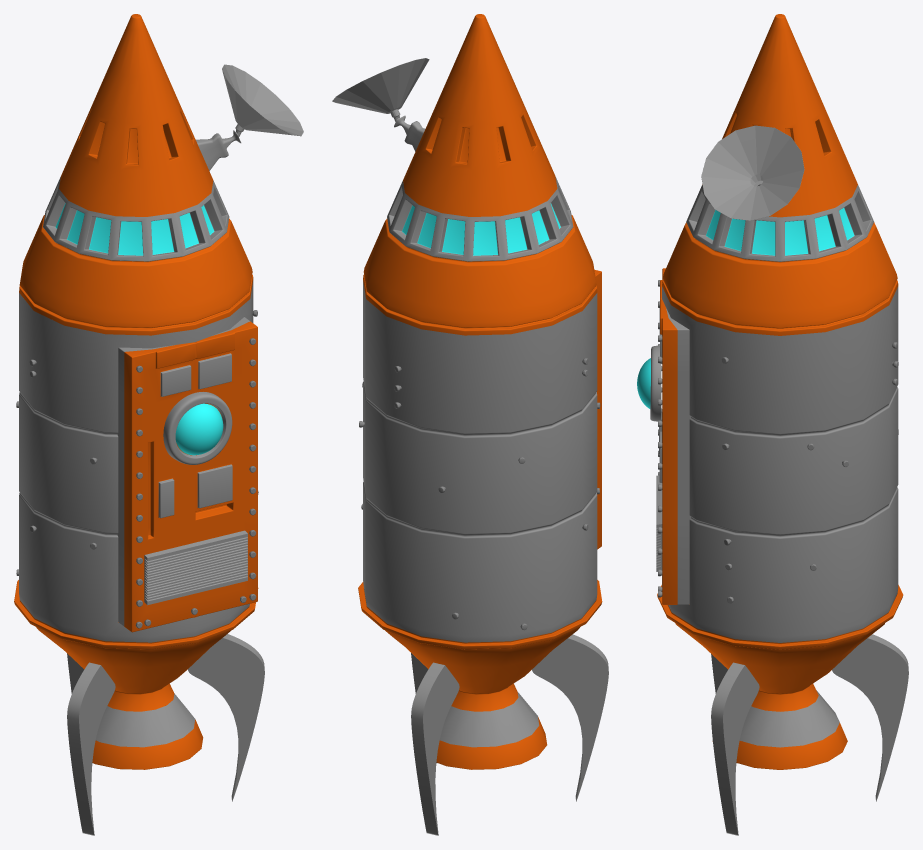
File: rocket-body.glb
3 renders of one model, left to right at view 1: azimuth 30°, elevation 25°; view 2: azimuth 150°, elevation 25°; view 3: azimuth 270°, elevation 25°, orthographic.
Visible parts, largest first — view 1: body; view 2: body; view 3: body.
Boxes of the visible parts, bbox=[...] form: body: bbox=[14, 14, 303, 835]; body: bbox=[332, 14, 608, 835]; body: bbox=[637, 14, 908, 835].
Bounding box in the file's own units: 3.09 × 9.04 × 2.84.
